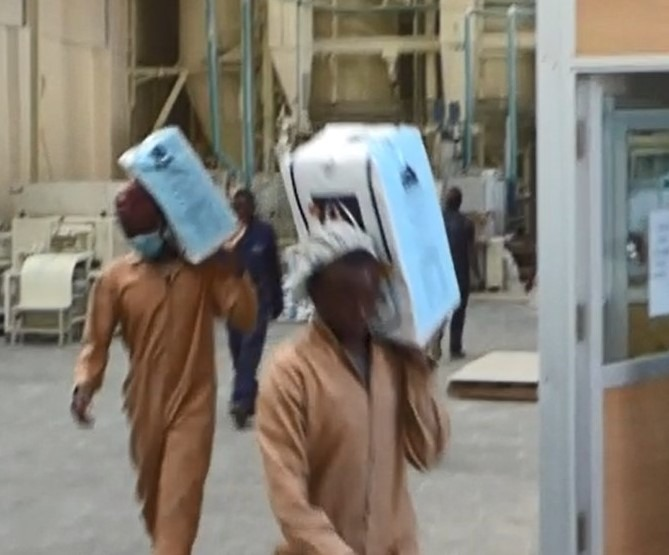wheat_flour_blue_label: (289, 126, 461, 351), (120, 129, 244, 261)
